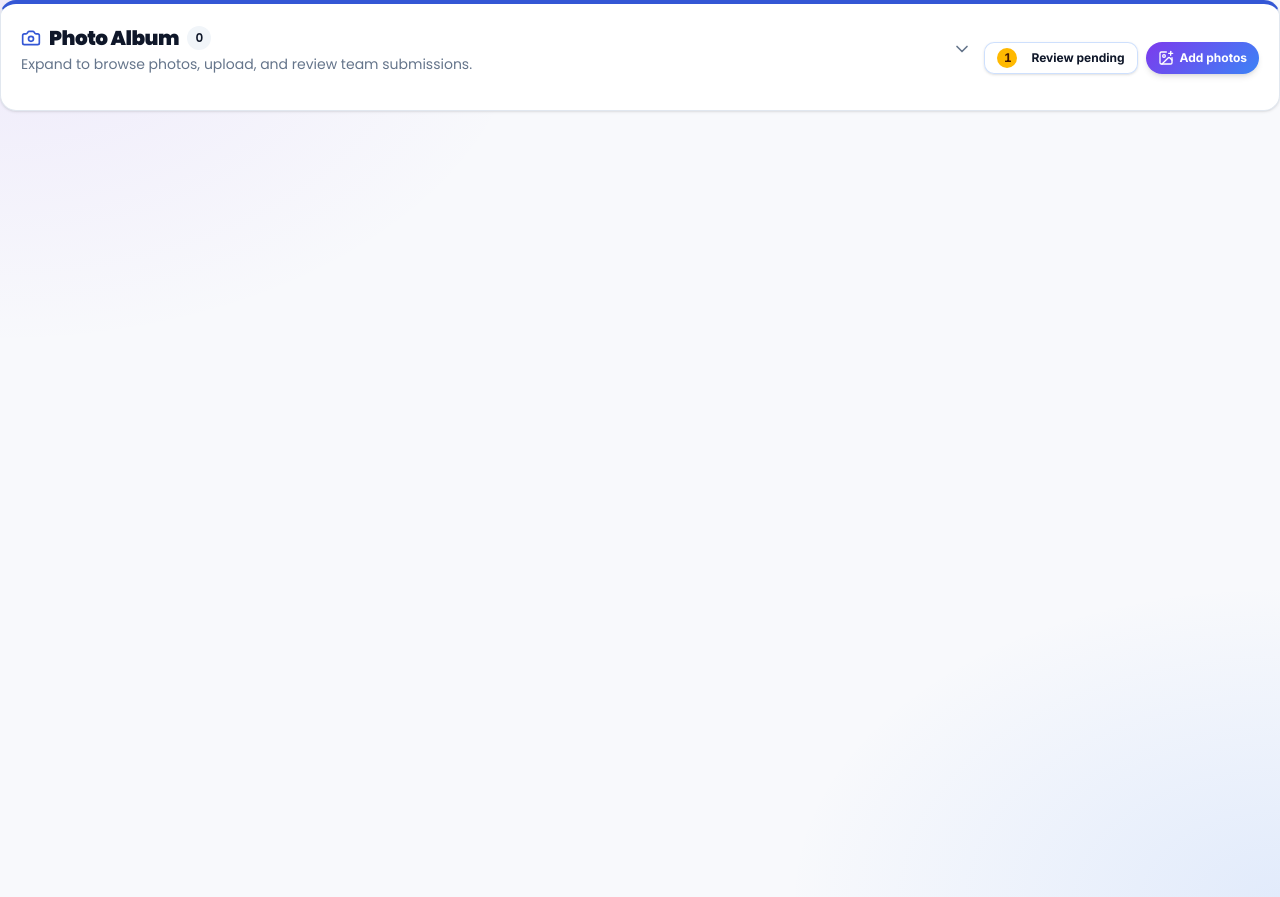
Test: competition album collapse and admin explanation › removes the signed-in gallery and controls when the user signs out
Later steps or results of the test are not shown.
Click the button with test id "button-toggle-competition-album".
click(114, 38)  # box left=21, top=24, right=972, bottom=74
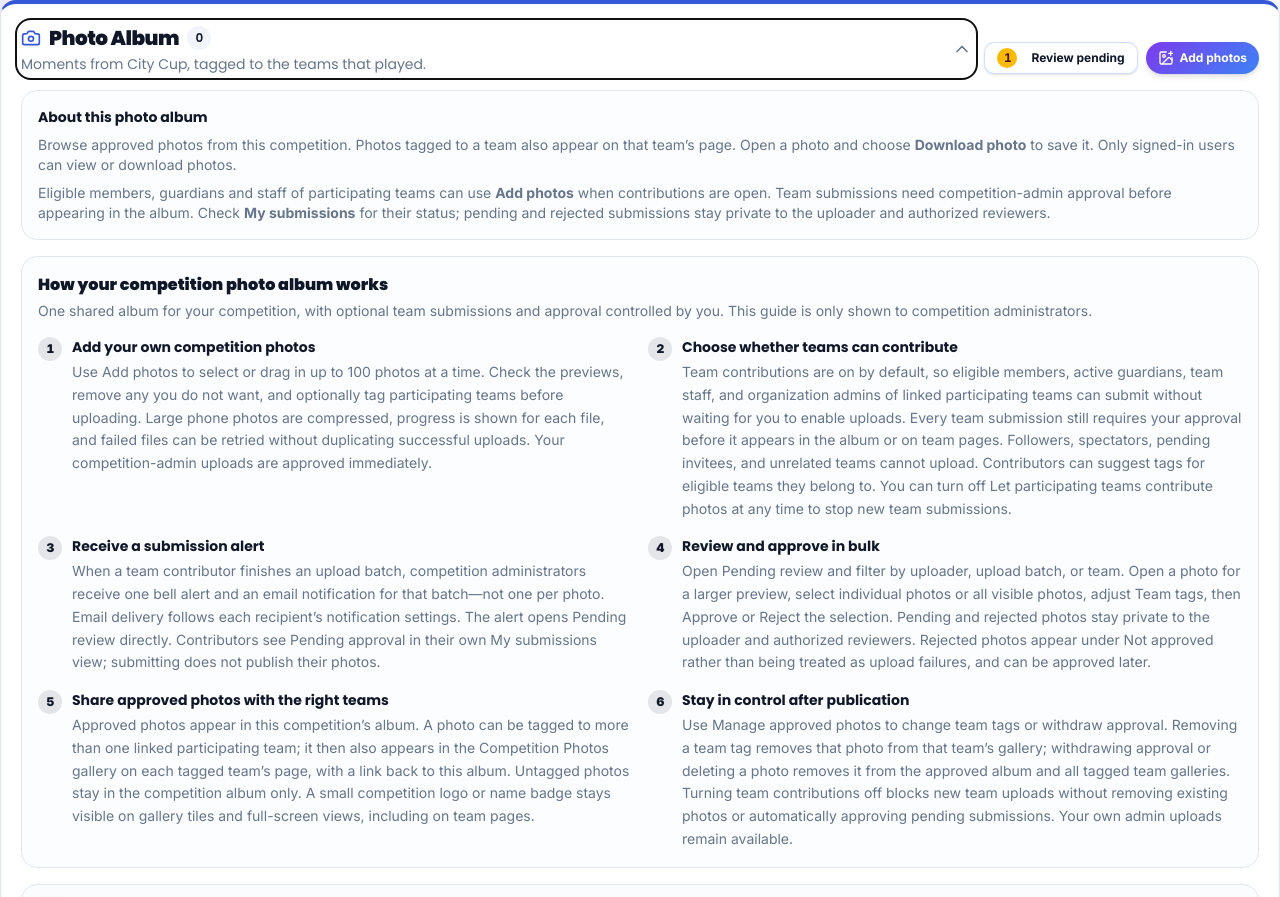
Check: the element with test id "guide-competition-photos" is shown
